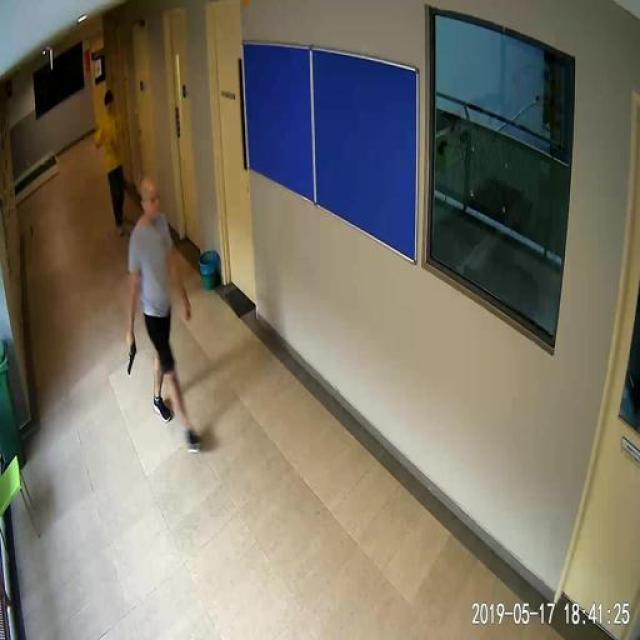Gun: (120, 335, 148, 383)
